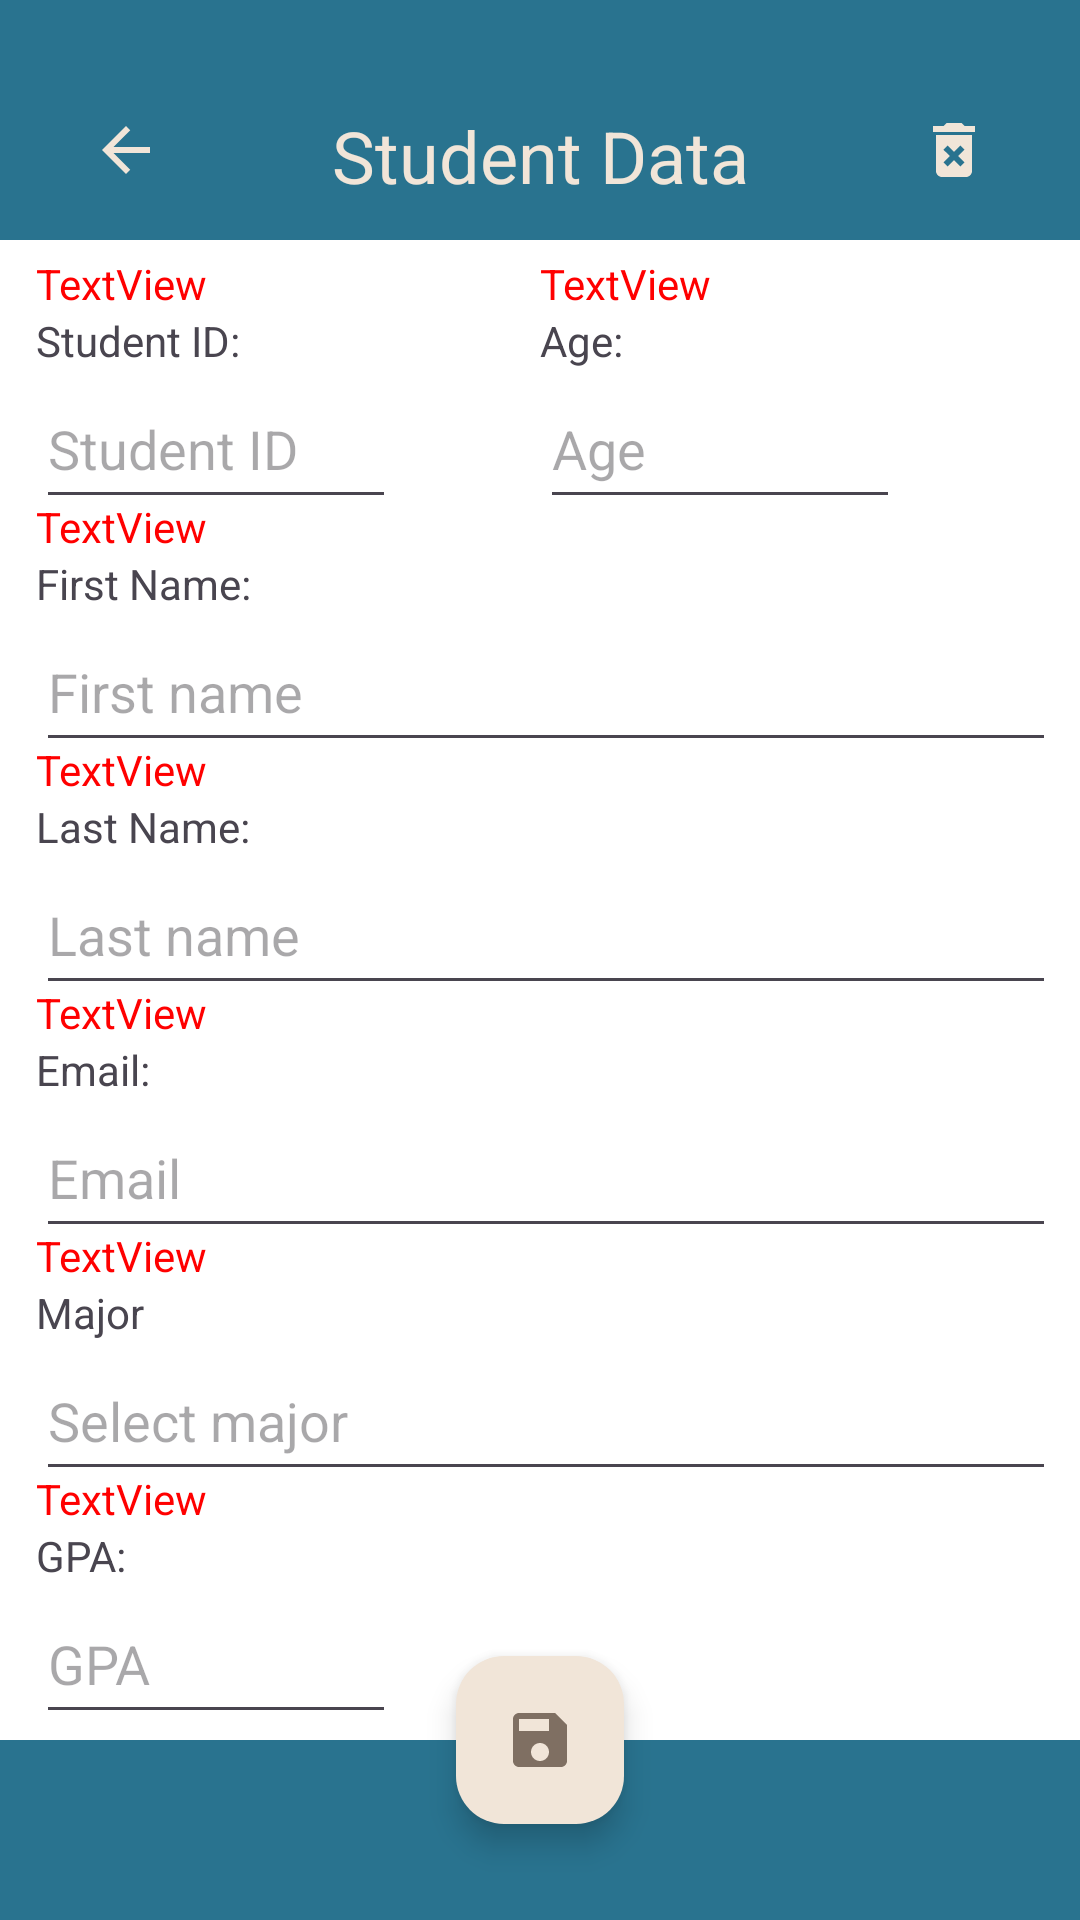

Where to tap for icons on this 1080px x 1920px app screen, as point (x, y):
back arrow: point (126, 150)
delete: point (954, 150)
save: point (540, 1740)
